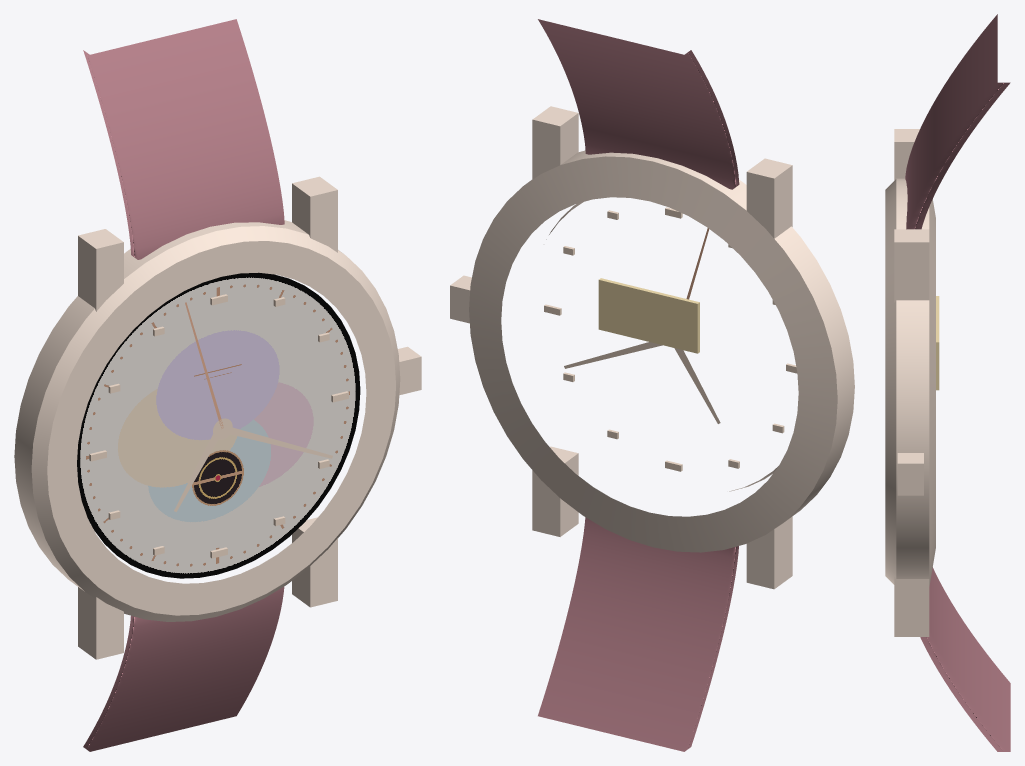
Rendered from nacre-05.glb.
The picture shows the model from 3 angles, left to right: view 1: azimuth 30°, elevation 25°; view 2: azimuth 150°, elevation 25°; view 3: azimuth 270°, elevation 25°; orthographic projection. The views are drawn at different scales.
Parts seen in each view (by area): view 1: WatchMesh; view 2: WatchMesh; view 3: WatchMesh.
Boxes of the visible parts, box(x1,y1,x2,y2) form: WatchMesh: box(14, 19, 421, 751); WatchMesh: box(450, 19, 854, 751); WatchMesh: box(885, 14, 1010, 751).
Bounding box in the file's own units: 1.97 × 3.36 × 0.58.
Materials: 6 (1 with a texture image).
